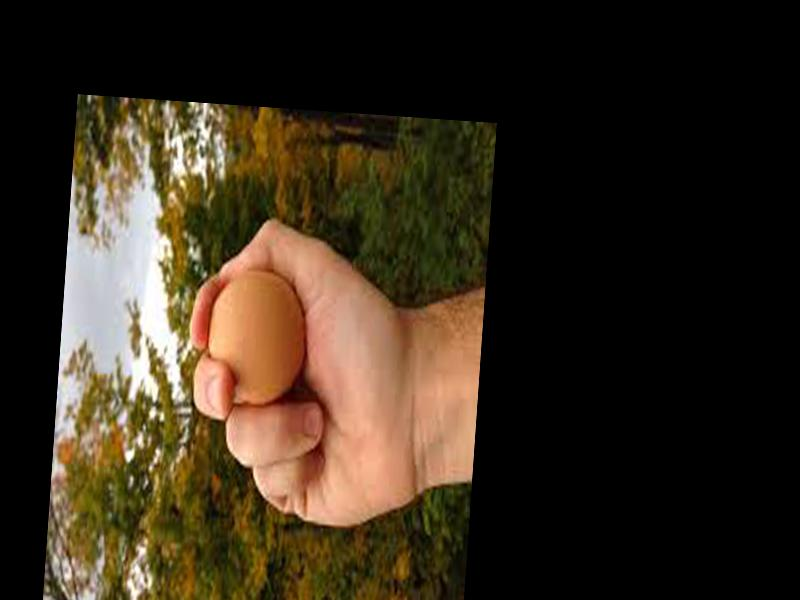Eggs: (204, 268, 309, 413)
